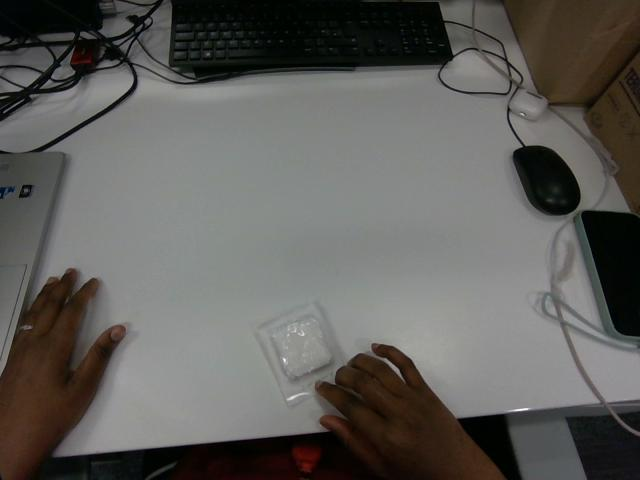gauze: (255, 303, 342, 404)
